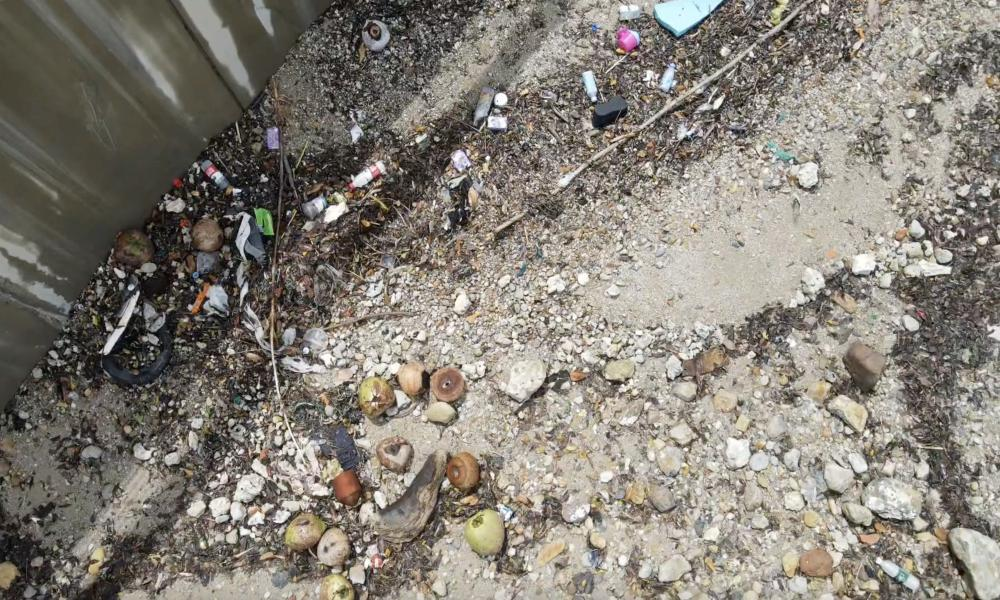plastic bottle: (200, 158, 228, 194), (352, 158, 384, 186), (583, 69, 598, 107), (661, 60, 674, 94)
